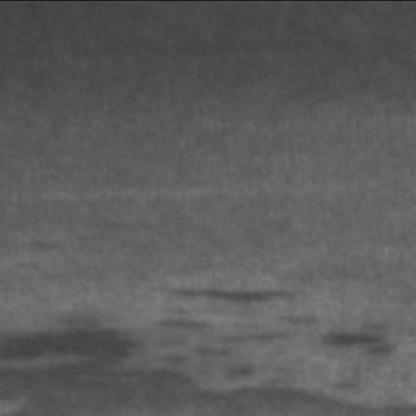inclusion: (4, 326, 416, 416), (164, 285, 304, 364), (320, 335, 400, 397)
